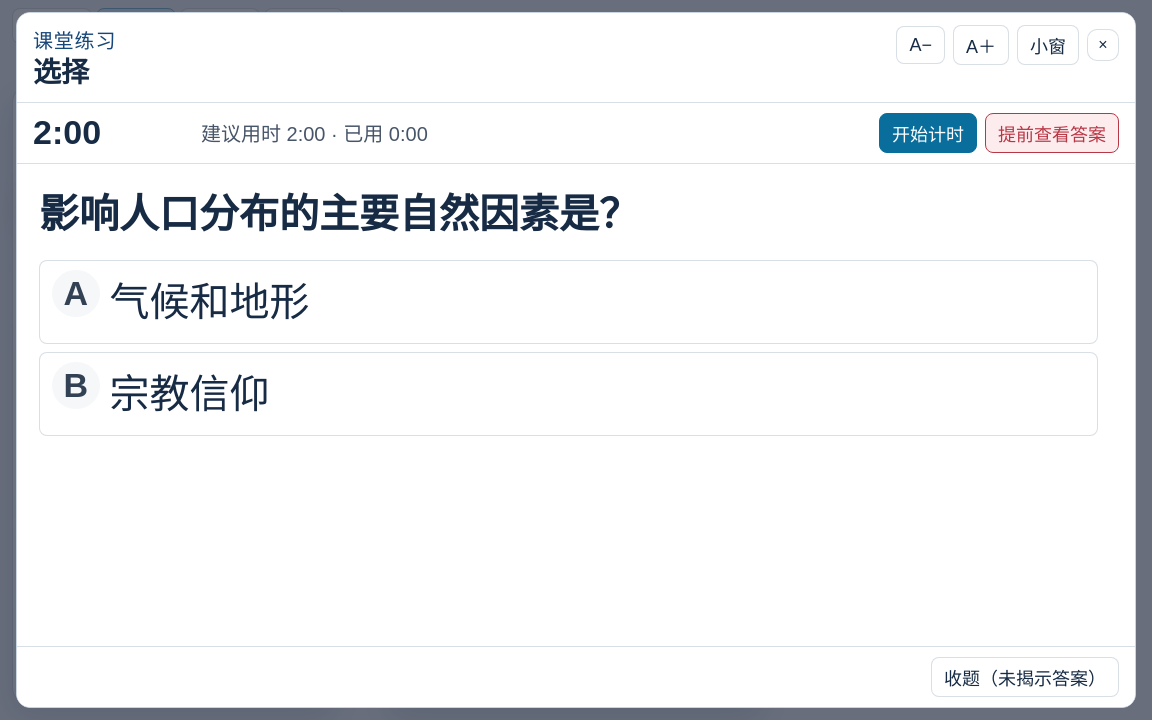
Test: LessonWorkflowShell projection mini card › closes the question from the mini card via the header close button
Step 1. Click the button with test id "qpm-minimize" → x=1048, y=45, box x1=1017 y1=25 x2=1079 y2=65
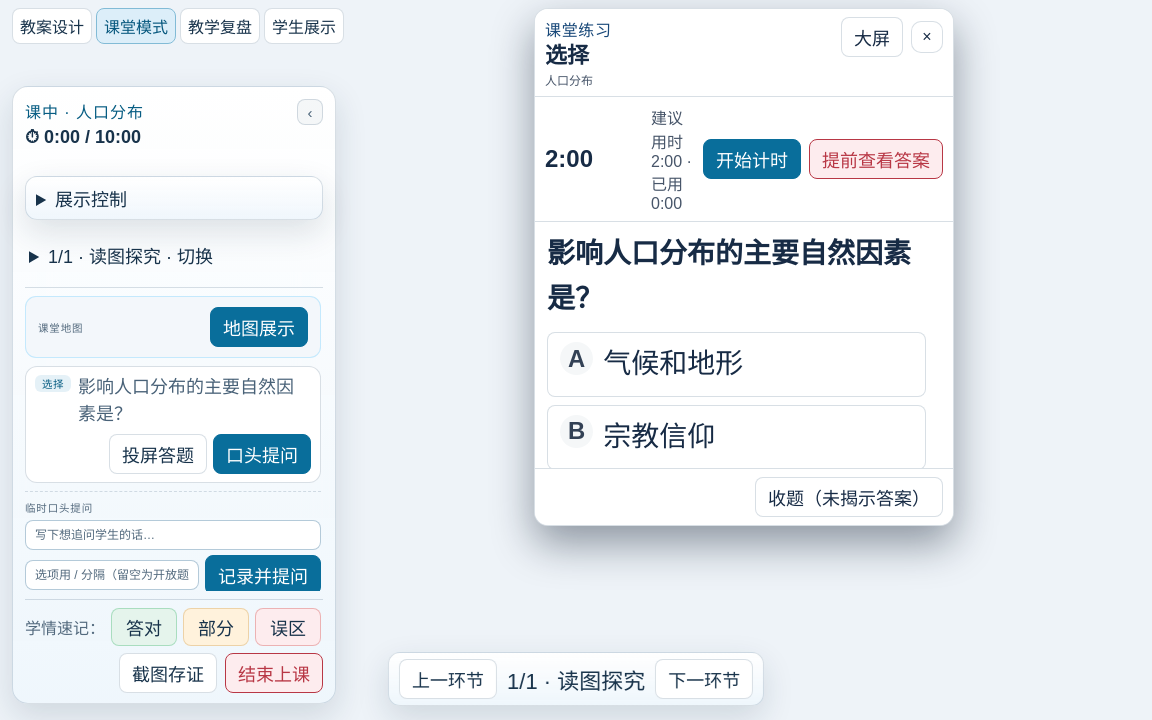
Check: the dialog with test id "question-practice-modal" has class "qpm-mini", box x1=534 y1=8 x2=954 y2=526
Step 2. Click the button with test id "qpm-close" → x=927, y=37, box x1=911 y1=21 x2=943 y2=53
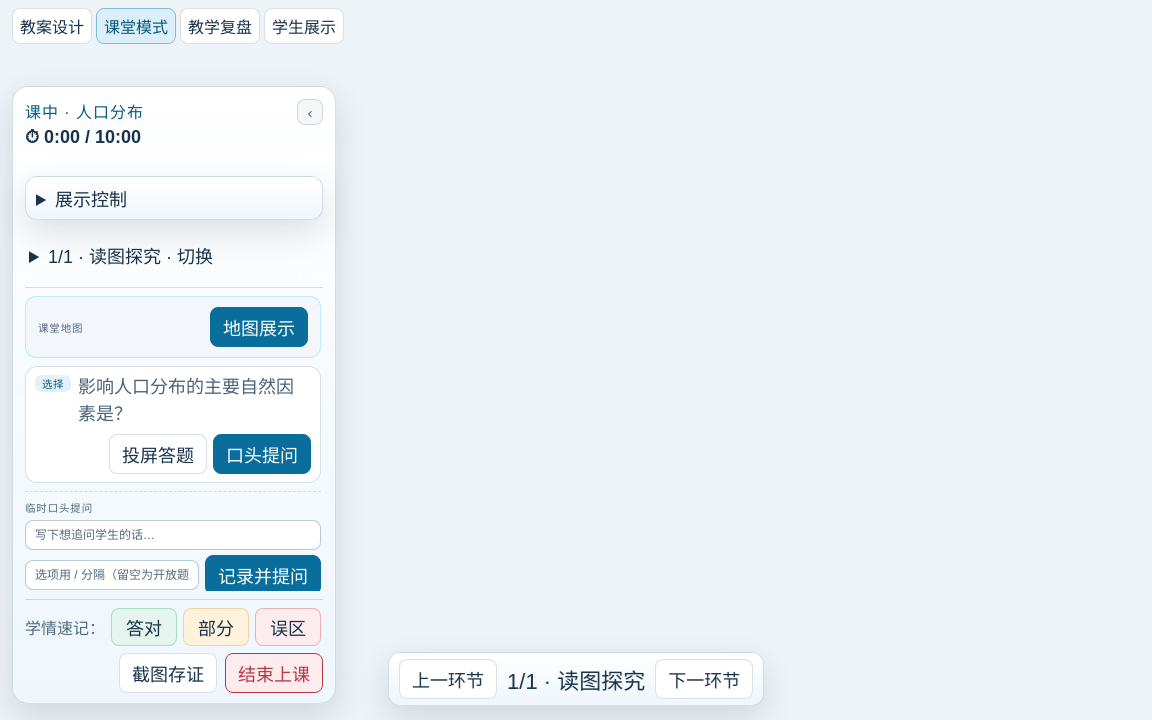
Check: the dialog with test id "question-practice-modal" is gone
